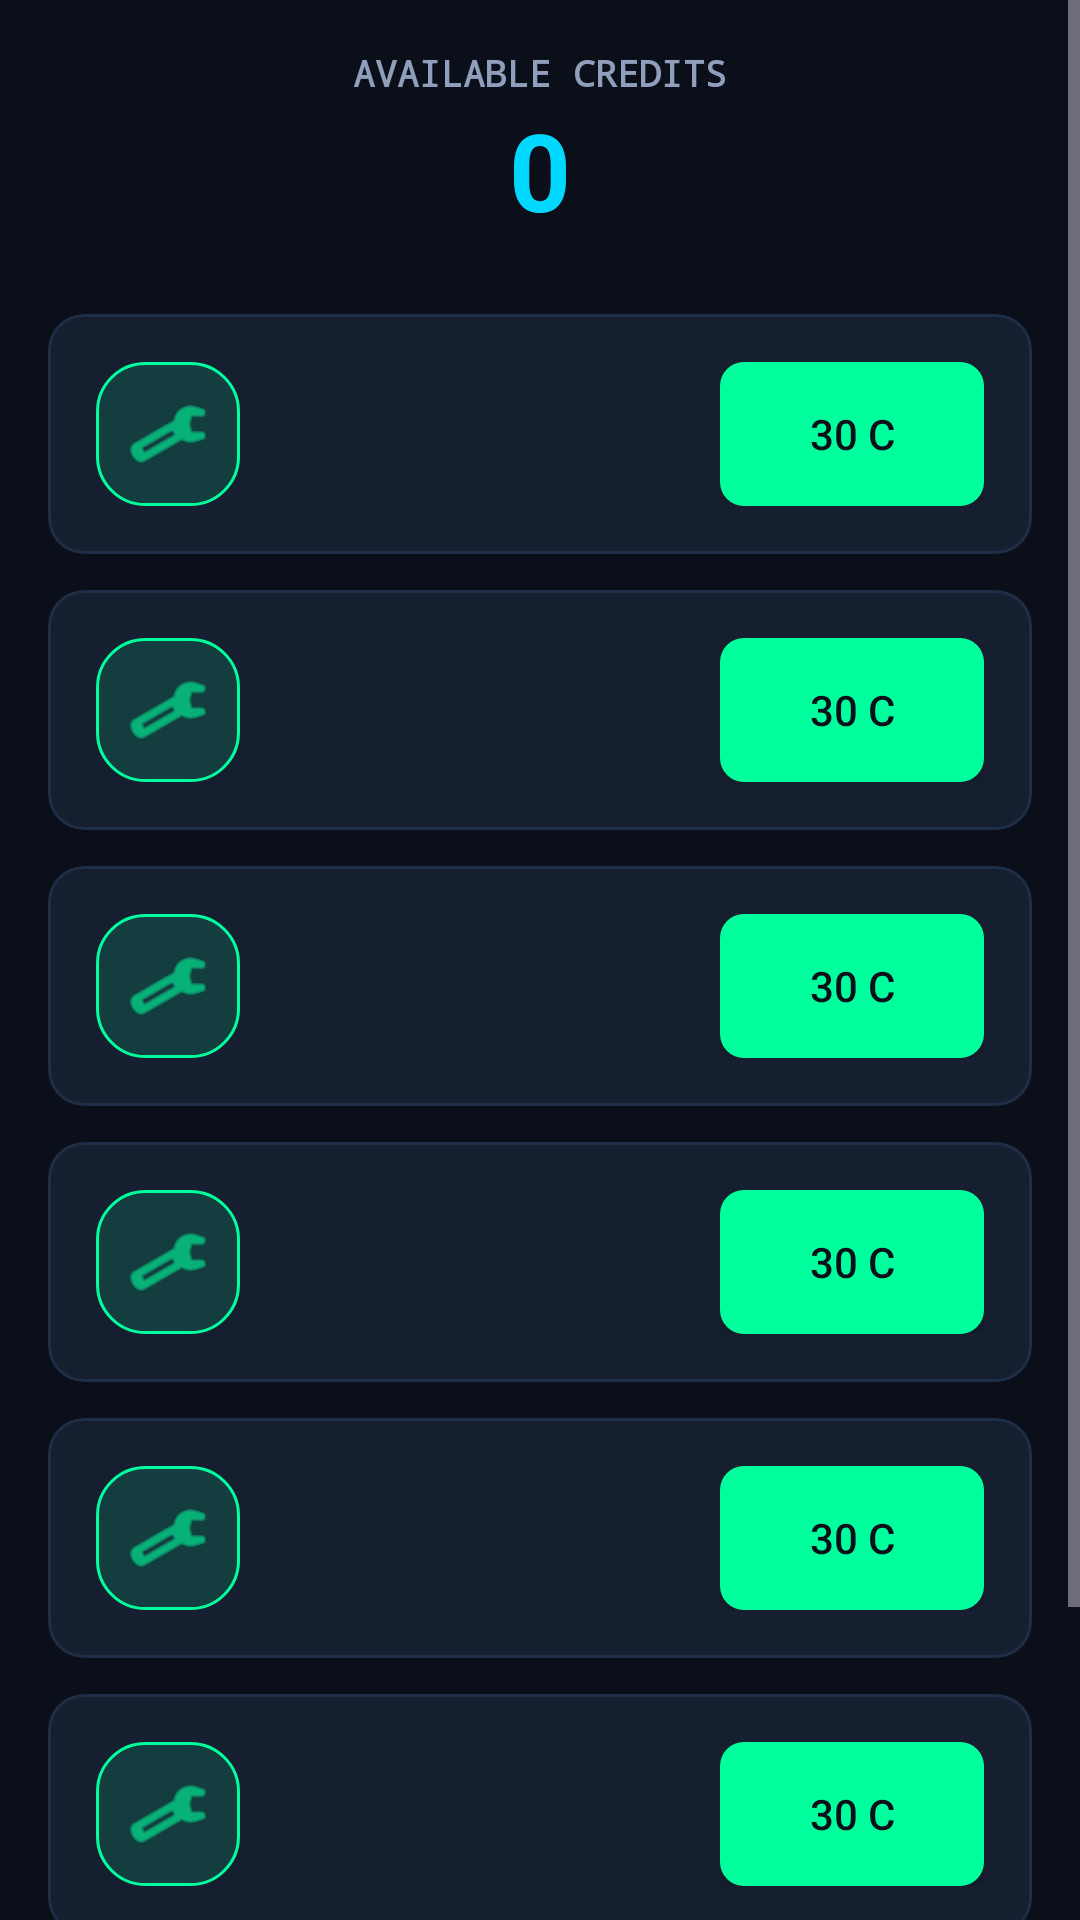

Screen size 1080 × 1920. Icon name, then its box in pixels as bbox(x1, y1, x2, y2):
manage: bbox(96, 362, 240, 506), bbox(96, 638, 240, 782), bbox(96, 914, 240, 1058), bbox(96, 1190, 240, 1334), bbox(96, 1466, 240, 1610), bbox(96, 1742, 240, 1886)
